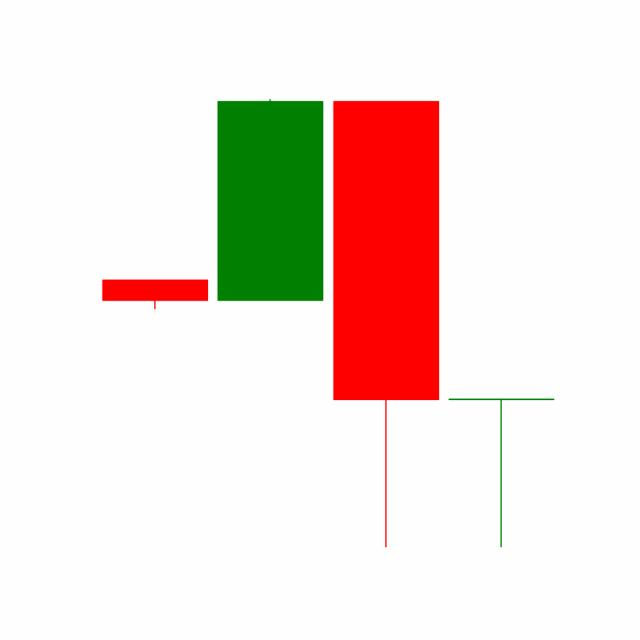Hanging Man: (443, 396, 559, 548)
